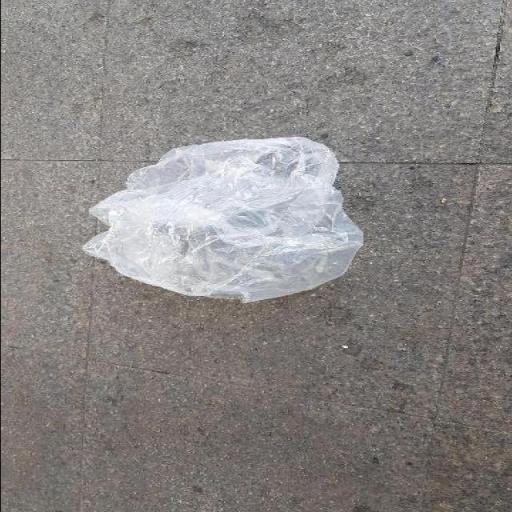plastic-bag: (76, 136, 362, 302)
